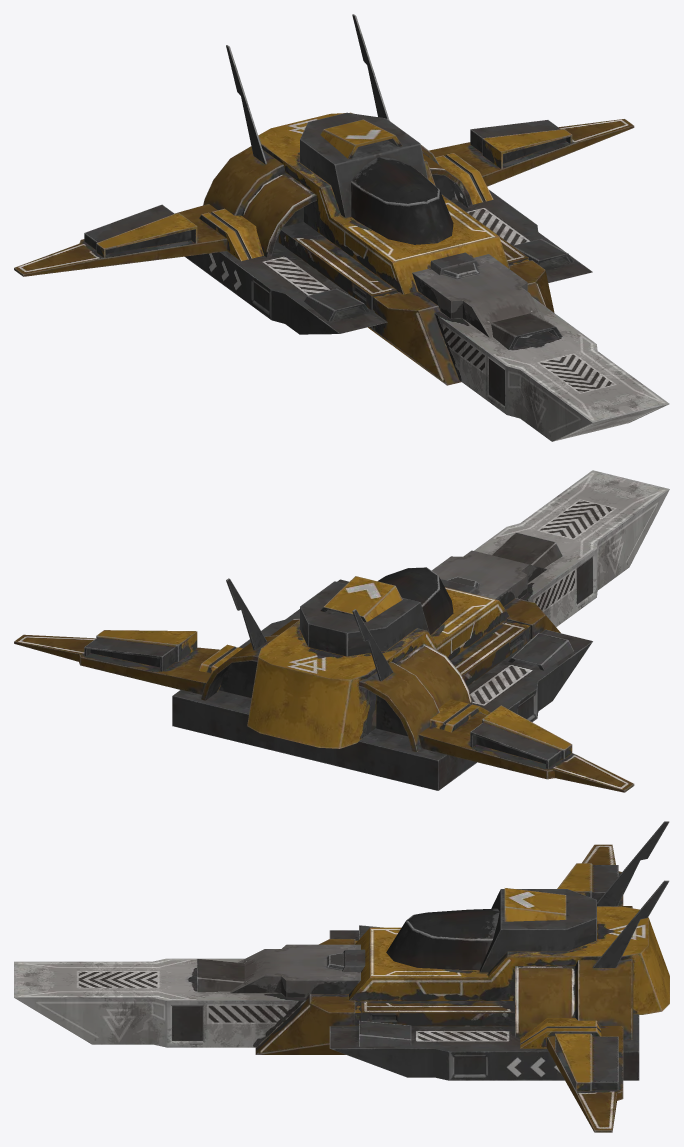
The model's file is quaternius-spaceships-pack-challenger.glb.
3 renders of one model, top to bottom at view 1: azimuth 30°, elevation 25°; view 2: azimuth 150°, elevation 25°; view 3: azimuth 270°, elevation 25°, orthographic. The views are drawn at different scales.
Visible parts, largest first — view 1: Challenger; view 2: Challenger; view 3: Challenger.
Boxes of the visible parts, x1,y1,x2,y2 form: Challenger: (14,14,669,441); Challenger: (14,470,669,792); Challenger: (14,821,669,1132).
Bounding box in the file's own units: 10.5 × 3.02 × 10.18.
Materials: 1 (1 with a texture image).
